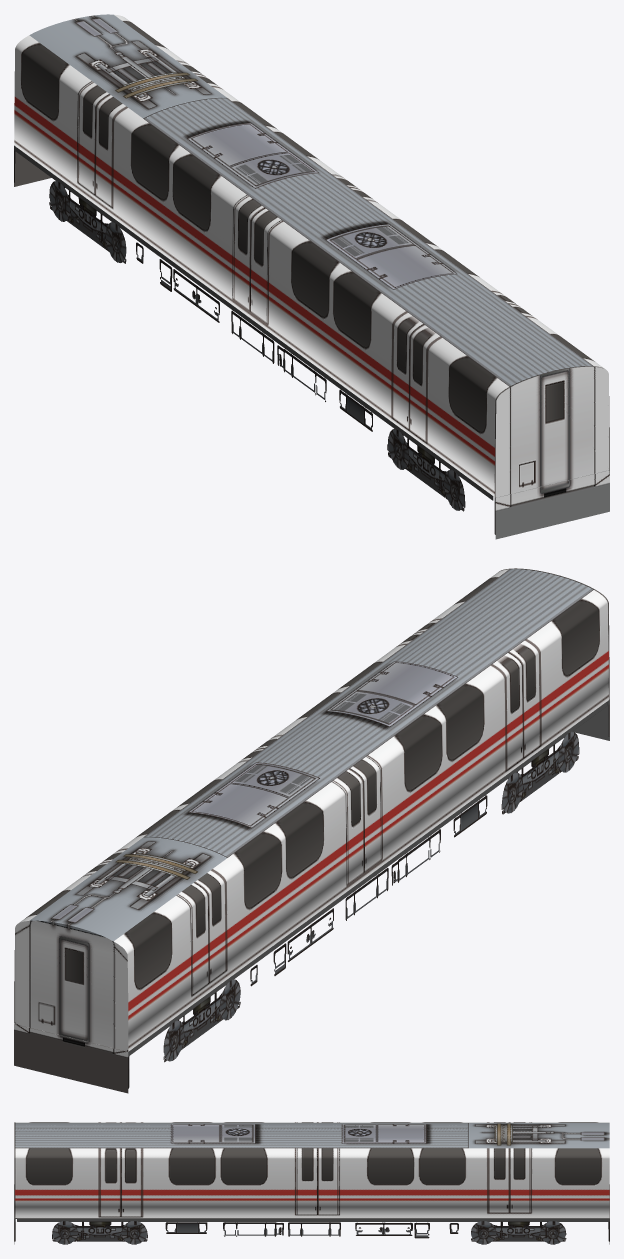
The model's file is car2.glb.
3 views of the same model, one above another, from view 1: azimuth 30°, elevation 25°; view 2: azimuth 150°, elevation 25°; view 3: azimuth 270°, elevation 25° (orthographic). The views are drawn at different scales.
Visible parts, largest first — view 1: meitetsu-1200-car2; view 2: meitetsu-1200-car2; view 3: meitetsu-1200-car2.
Part boxes in pixels (x1,y1,x2,y2): meitetsu-1200-car2: (14,14,609,539); meitetsu-1200-car2: (14,568,609,1093); meitetsu-1200-car2: (14,1122,609,1244).
Bounding box in the file's own units: 2.74 × 3.52 × 20.03.
9 materials, 8 textured.
